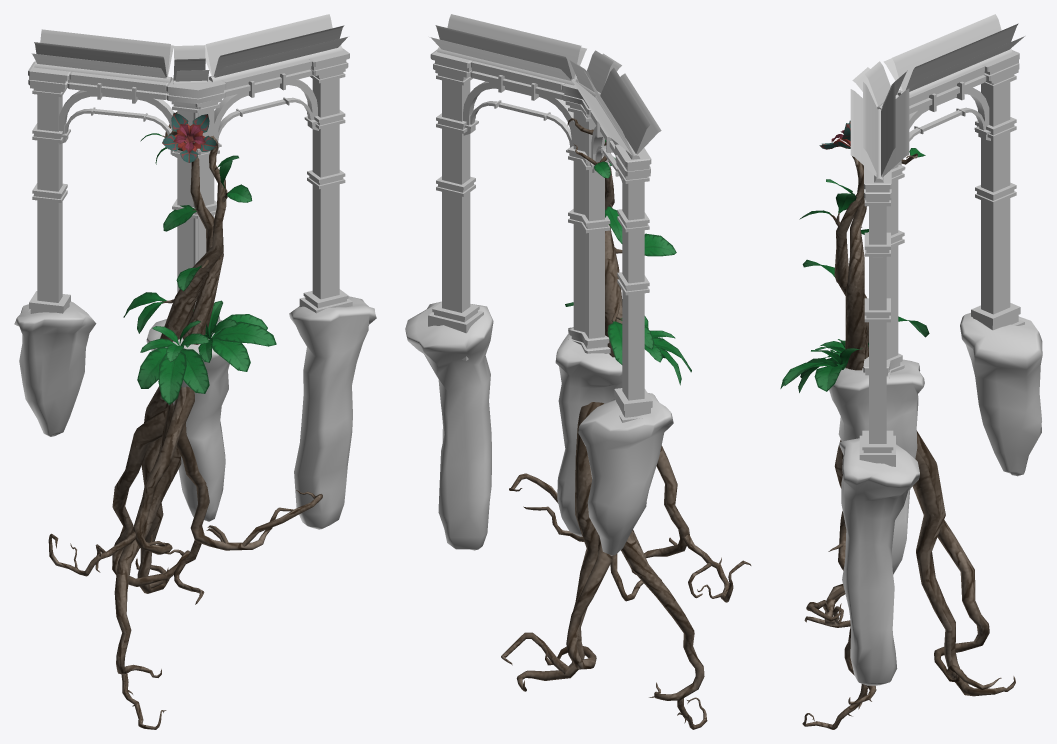
Rendered from spikesCurve.obj.
3 views of the same model, side by side, from view 1: azimuth 30°, elevation 25°; view 2: azimuth 150°, elevation 25°; view 3: azimuth 270°, elevation 25° (orthographic). The views are drawn at different scales.
Parts seen in each view (by area): view 1: spikesCurve PlatfprmsAndSpikes; view 2: spikesCurve PlatfprmsAndSpikes; view 3: spikesCurve PlatfprmsAndSpikes.
Part boxes in pixels (box(x1,y1,x2,y2)): spikesCurve PlatfprmsAndSpikes: box(14, 14, 376, 729); spikesCurve PlatfprmsAndSpikes: box(405, 14, 751, 729); spikesCurve PlatfprmsAndSpikes: box(780, 14, 1042, 729).
Bounding box in the file's own units: 21.42 × 41.27 × 14.04.
